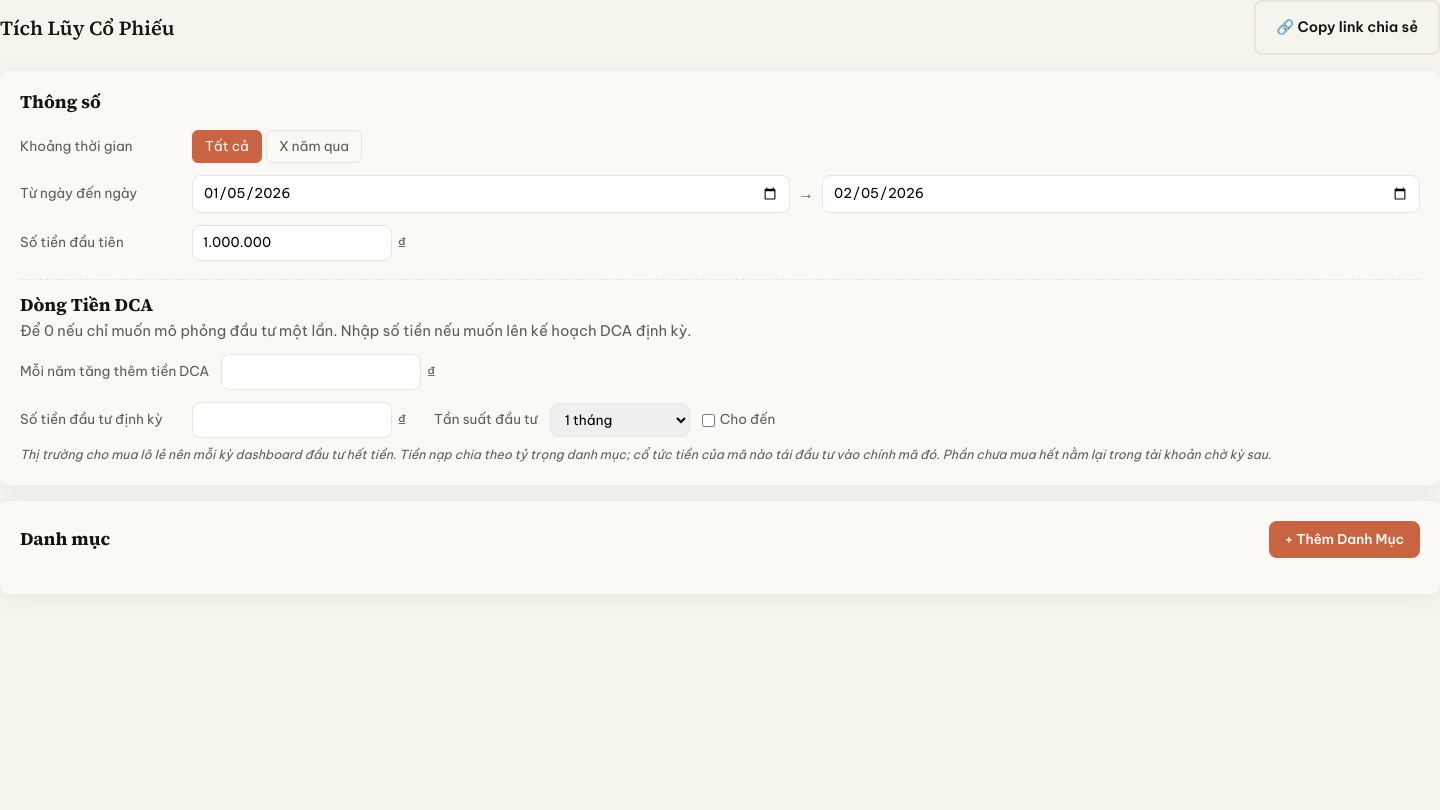
Test case: StockDcaPanel › keeps the setup form mounted while a newly added stock loads
Click the button "+ Thêm Danh Mục": {"x": 1344, "y": 540} x1=1268 y1=521 x2=1420 y2=558
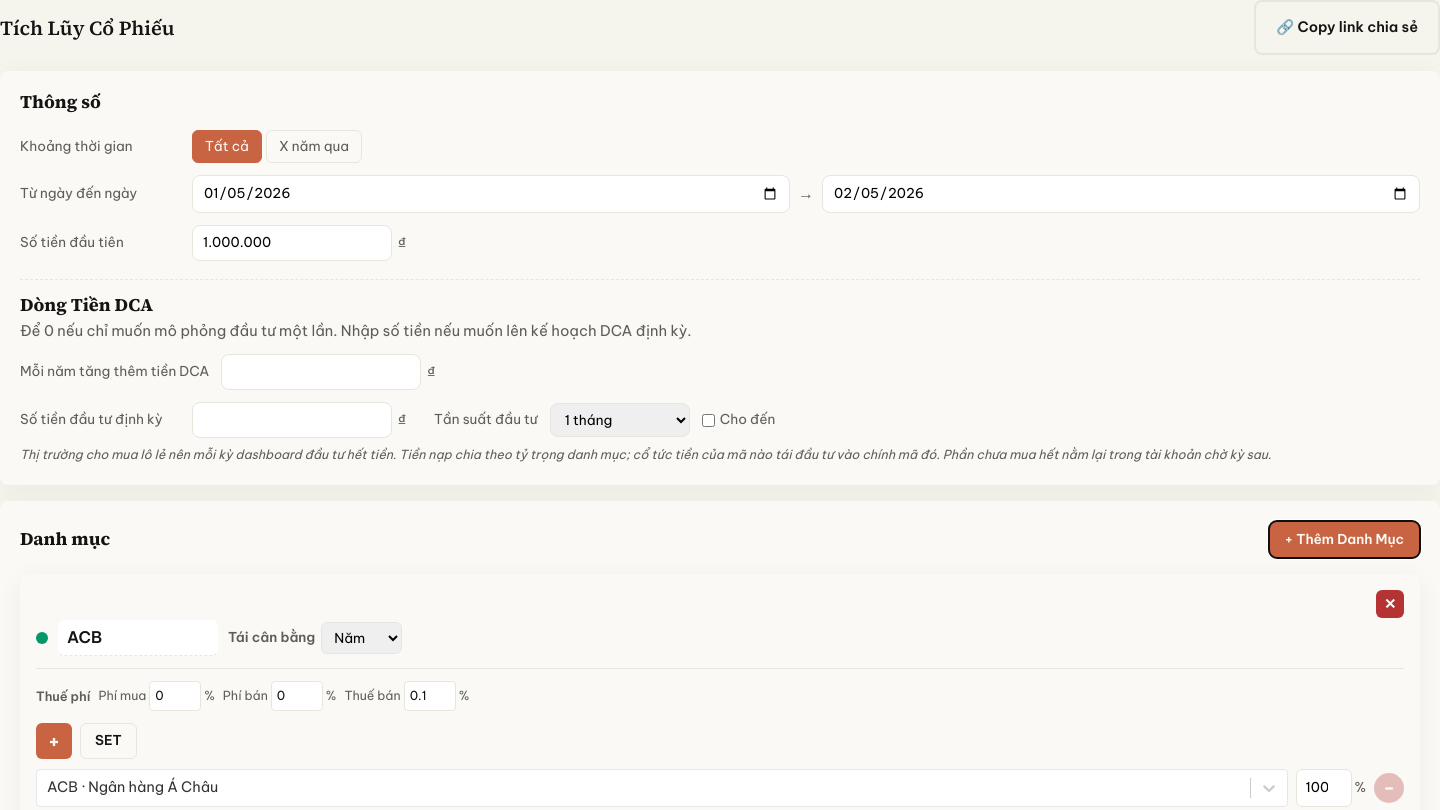
Expected: the heading "Thông số" is shown, x1=20 y1=89 x2=101 y2=114
Now the text "ACB · Ngân hàng Á Châu" is shown, box x1=47 y1=778 x2=218 y2=796
